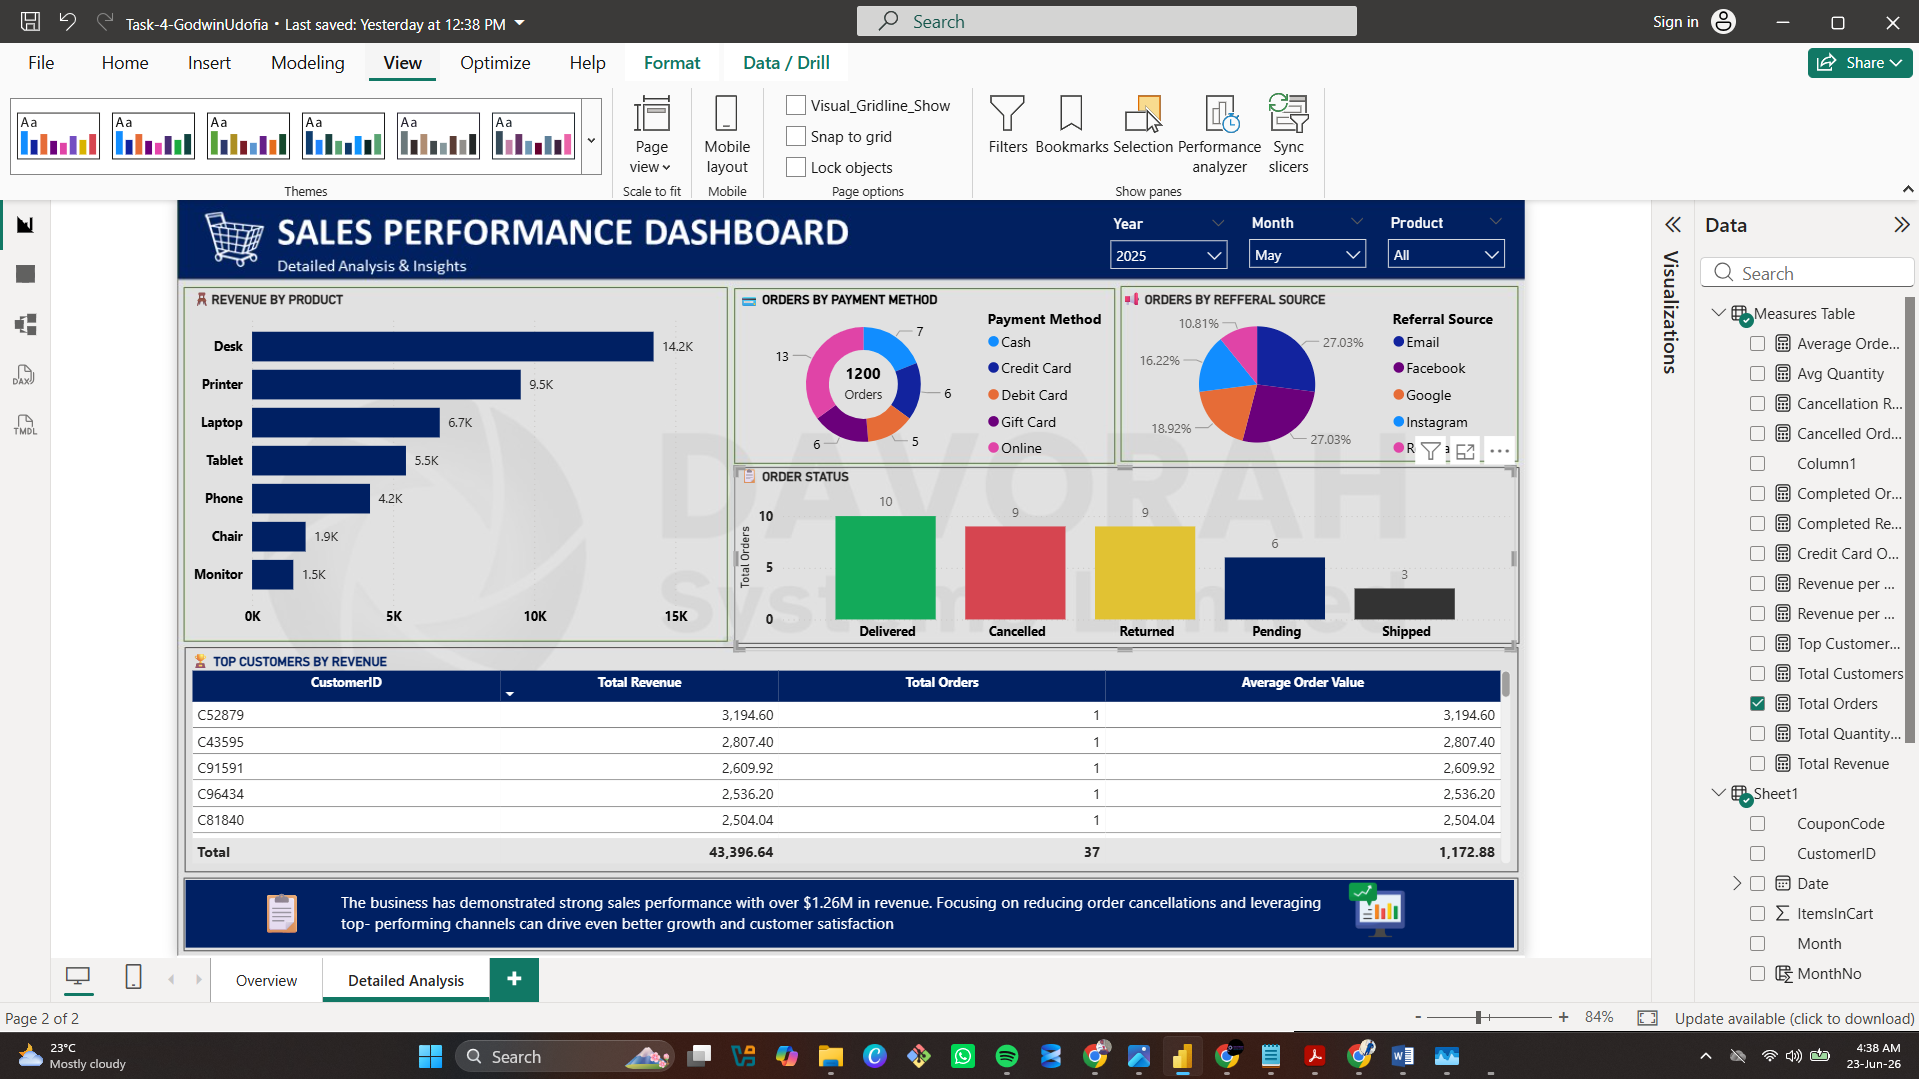

This screenshot's page, from the dashboard's own definition file:
{"tool":"powerbi","page":{"name":"Detailed Analysis","canvas":[1280,720],"ordinal":1},"visuals":[{"type":"donutChart","title":"💳 ORDERS BY PAYMENT METHOD","fields":{"Category":["Sheet1.PaymentMethod"],"Y":["Measures Table.Total Orders"]},"box":[529.6,84.3,363.3,168.6],"z":0},{"type":"pieChart","title":"📢 ORDERS BY REFFERAL SOURCE","fields":{"Category":["Sheet1.ReferralSource"],"Y":["Measures Table.Total Orders"]},"box":[892.9,84.3,377.6,168.6],"z":1000},{"type":"clusteredColumnChart","title":"📋 ORDER STATUS","fields":{"Category":["Sheet1.OrderStatus"],"Y":["Measures Table.Total Orders"]},"box":[529.6,252.9,742.1,175.7],"z":2000},{"type":"clusteredBarChart","title":"🪑REVENUE BY PRODUCT","fields":{"Category":["Sheet1.Product"],"Y":["Measures Table.Total Revenue"]},"box":[9.5,84.3,512.9,330.1],"z":3000},{"type":"textbox","box":[622.2,149.6,59.4,53.4],"z":4000},{"type":"tableEx","title":"🏆 TOP CUSTOMERS BY REVENUE","fields":{"Values":["Sheet1.CustomerID","Measures Table.Total Revenue","Measures Table.Total Orders","Measures Table.Average Order Value"]},"box":[8.3,428.6,1263.3,206.6],"z":5000},{"type":"textbox","box":[140.5,650.6,1059.7,54.2],"z":6000},{"type":"shape","box":[8.6,645.7,1261.8,64.1],"z":7000},{"type":"textbox","box":[150.8,651.9,942.8,53.4],"z":8000},{"type":"slicer","fields":{"Values":["Sheet1.Product"]},"box":[1139.9,8.3,131.8,60.6],"z":9000},{"type":"slicer","fields":{"Values":["Sheet1.Year"]},"box":[876.3,9.5,131.8,60.6],"z":10000},{"type":"slicer","fields":{"Values":["Sheet1.Month"]},"box":[1008.1,8.3,131.8,60.6],"z":11000},{"type":"textbox","box":[68.9,645.9,71.2,64.1],"z":12000},{"type":"image","box":[1112.6,645.9,54.6,57],"z":13000}]}

Visuals, with their boxes on the page's 1280x720 design canvas (x1, y1, x2, y2). These are canvas units, not pixel positions in the 1919x1079 screenshot, which may show the page scaled, cropped or inside an application window:
"💳 ORDERS BY PAYMENT METHOD" donutChart: (530,84,893,253)
"📢 ORDERS BY REFFERAL SOURCE" pieChart: (893,84,1270,253)
"📋 ORDER STATUS" clusteredColumnChart: (530,253,1272,429)
"🪑REVENUE BY PRODUCT" clusteredBarChart: (10,84,522,414)
textbox: (622,150,682,203)
"🏆 TOP CUSTOMERS BY REVENUE" tableEx: (8,429,1272,635)
textbox: (140,651,1200,705)
shape: (9,646,1270,710)
textbox: (151,652,1094,705)
slicer - Sheet1.Product: (1140,8,1272,69)
slicer - Sheet1.Year: (876,10,1008,70)
slicer - Sheet1.Month: (1008,8,1140,69)
textbox: (69,646,140,710)
image: (1113,646,1167,703)
